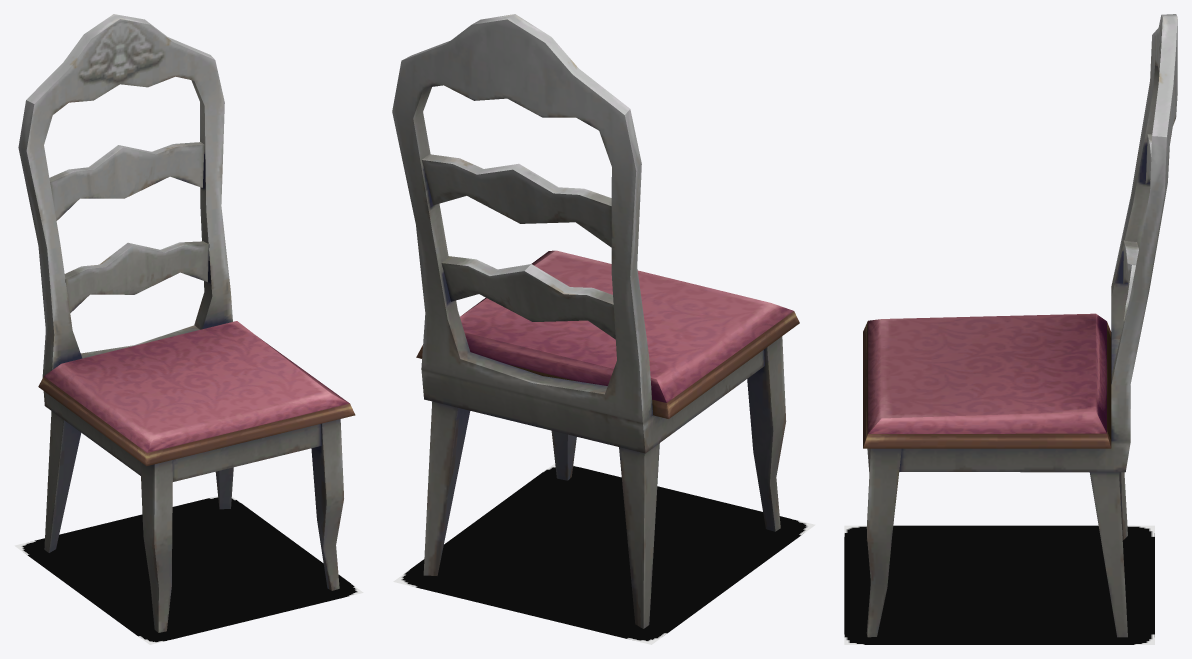
File: jj_ty_yizi02.FBX
The picture shows the model from 3 angles, left to right: view 1: azimuth 30°, elevation 25°; view 2: azimuth 150°, elevation 25°; view 3: azimuth 270°, elevation 25°; orthographic projection. The views are drawn at different scales.
Parts seen in each view (by area): view 1: jj_ty_yizi02, shadow; view 2: jj_ty_yizi02, shadow; view 3: jj_ty_yizi02, shadow.
Boxes of the visible parts, bbox=[...] form: jj_ty_yizi02: bbox=[18, 14, 355, 632]; shadow: bbox=[14, 496, 363, 644]; jj_ty_yizi02: bbox=[392, 14, 799, 628]; shadow: bbox=[393, 463, 815, 644]; jj_ty_yizi02: bbox=[863, 14, 1177, 637]; shadow: bbox=[844, 525, 1154, 644].
Size of the model in its own units: 66.27 by 149 by 78.19.
